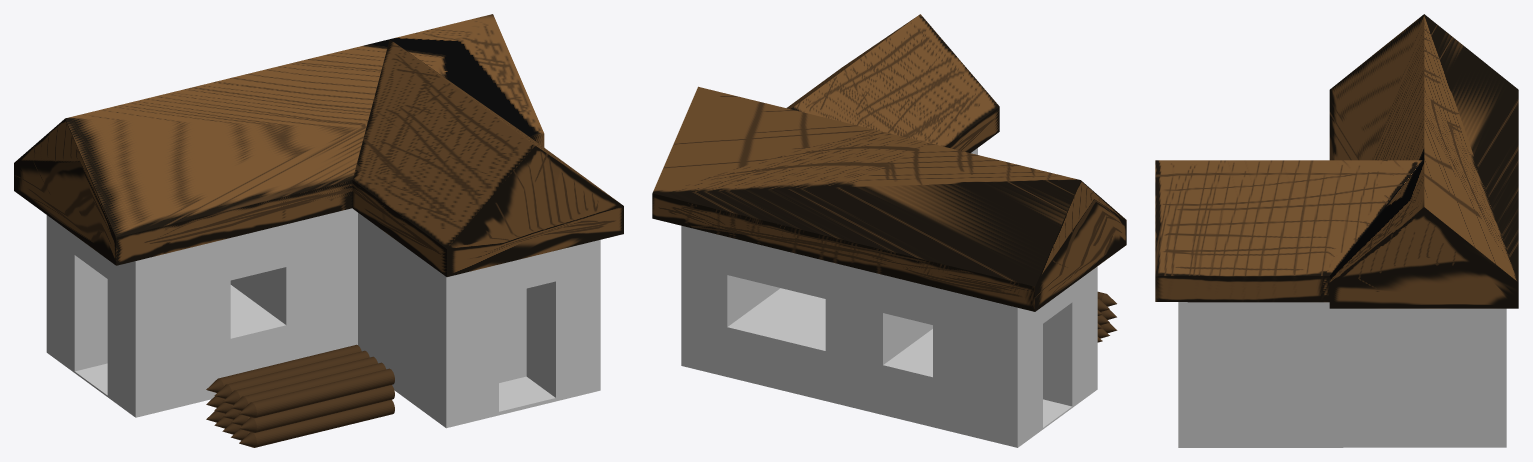
Rendered from Javelin_Maker.fbx.
3 views of the same model, side by side, from view 1: azimuth 30°, elevation 25°; view 2: azimuth 150°, elevation 25°; view 3: azimuth 270°, elevation 25° (orthographic). The views are drawn at different scales.
Parts seen in each view (by area): view 1: Cube.002, Cube, Cone; view 2: Cube.002, Cube, Cone; view 3: Cube.002, Cube.
Part boxes in pixels (left/top/right/bottom): Cube.002: left=14, top=14, right=623, bottom=276; Cube: left=46, top=208, right=600, bottom=428; Cone: left=206, top=344, right=394, bottom=447; Cube.002: left=652, top=14, right=1126, bottom=311; Cube: left=681, top=148, right=1097, bottom=447; Cone: left=1097, top=291, right=1117, bottom=342; Cube.002: left=1155, top=14, right=1518, bottom=308; Cube: left=1178, top=302, right=1506, bottom=447.
Bounding box in the file's own units: 769 × 469 × 612.
3 materials, 3 textured.
